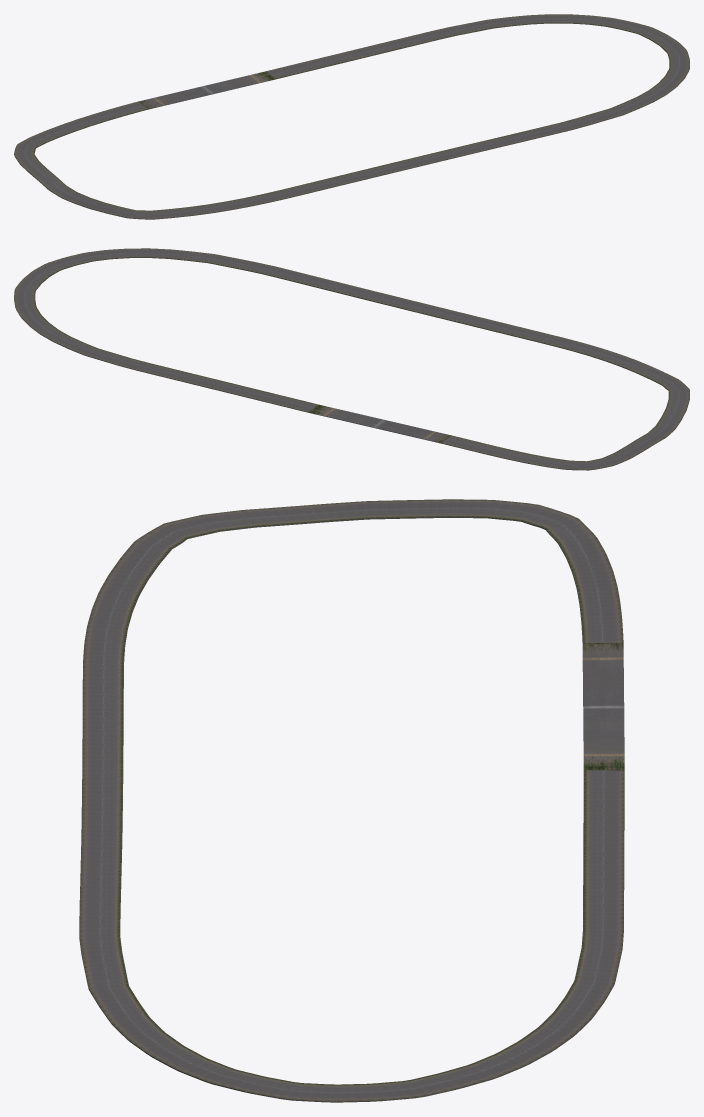
Rendered from road.obj.
3 renders of one model, top to bottom at view 1: azimuth 30°, elevation 25°; view 2: azimuth 150°, elevation 25°; view 3: azimuth 270°, elevation 25°, orthographic. The views are drawn at different scales.
Parts seen in each view (by area): view 1: track_Cube.001; view 2: track_Cube.001; view 3: track_Cube.001.
Part boxes in pixels (bbox=[...]): track_Cube.001: bbox=[14, 14, 689, 219]; track_Cube.001: bbox=[14, 248, 689, 470]; track_Cube.001: bbox=[79, 499, 624, 1102].
Bounding box in the file's own units: 84.89 × 0.6459 × 32.3.
1 material, 1 textured.
